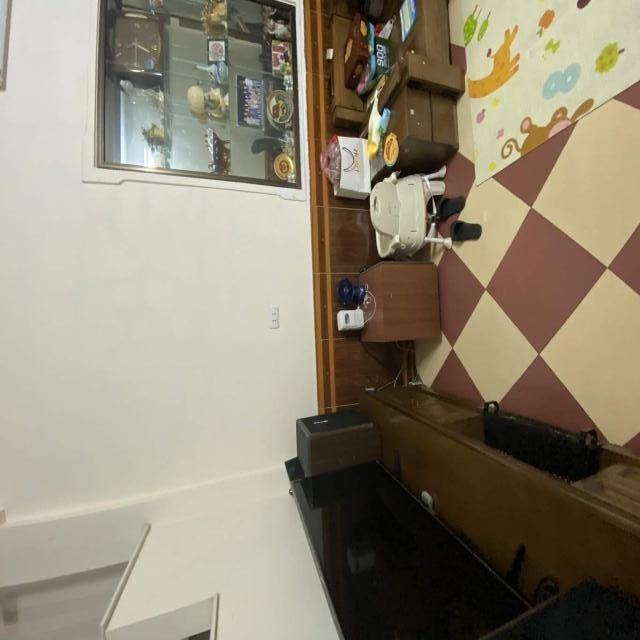outlet: (269, 307, 280, 329)
